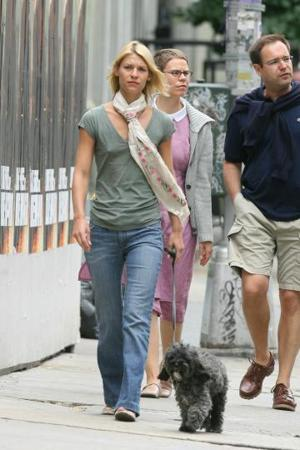person: (74, 42, 183, 421)
